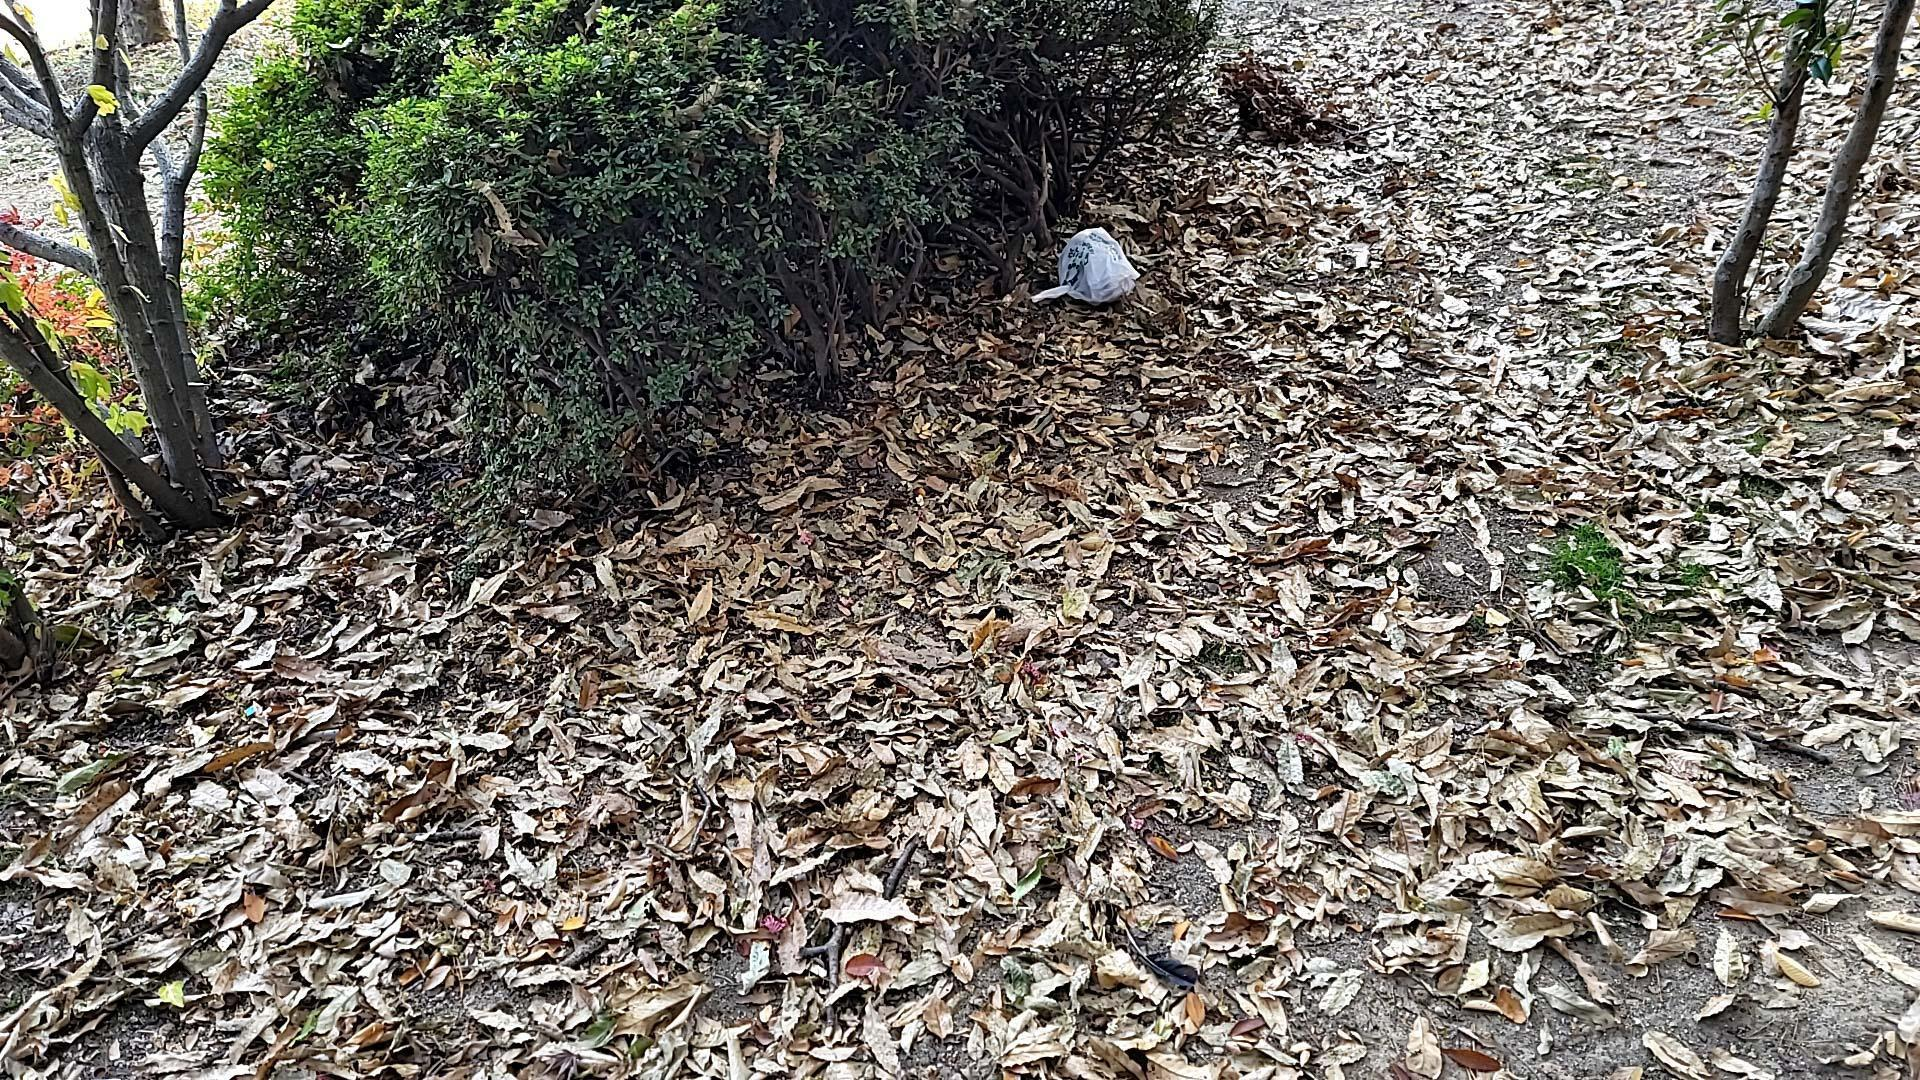white_bag: (1029, 220, 1143, 310)
